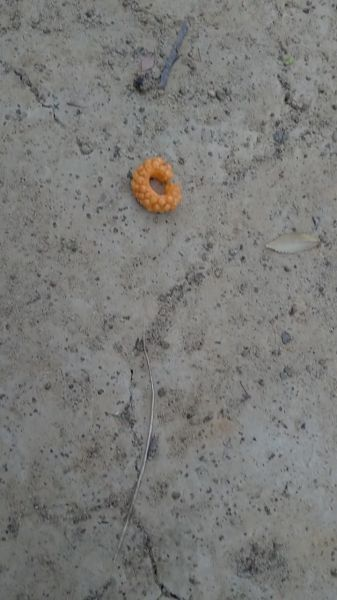eggs: (123, 140, 193, 226)
